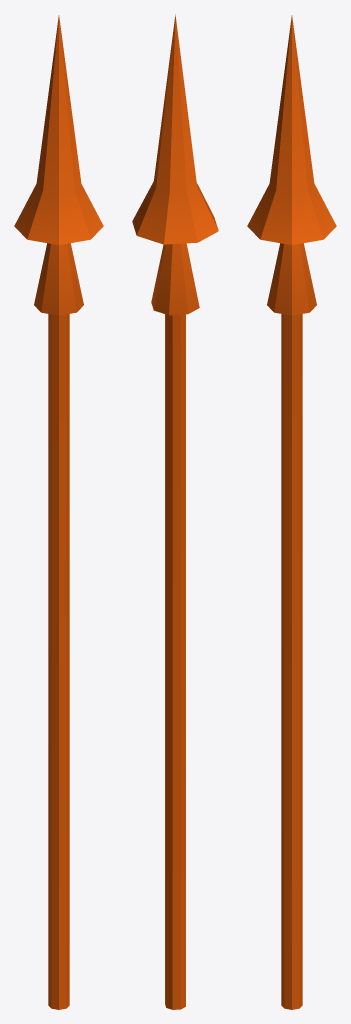
The model's file is RedWeapon.fbx.
The picture shows the model from 3 angles, left to right: view 1: azimuth 90°, elevation 25°; view 2: azimuth 210°, elevation 25°; view 3: azimuth 270°, elevation 25°; orthographic projection.
Visible parts, largest first — view 1: Weapon; view 2: Weapon; view 3: Weapon.
Boxes of the visible parts, bbox=[...] form: Weapon: bbox=[14, 15, 103, 1009]; Weapon: bbox=[132, 14, 218, 1009]; Weapon: bbox=[247, 15, 336, 1009].
Size of the model in its own units: 8.32 by 102 by 8.32.
